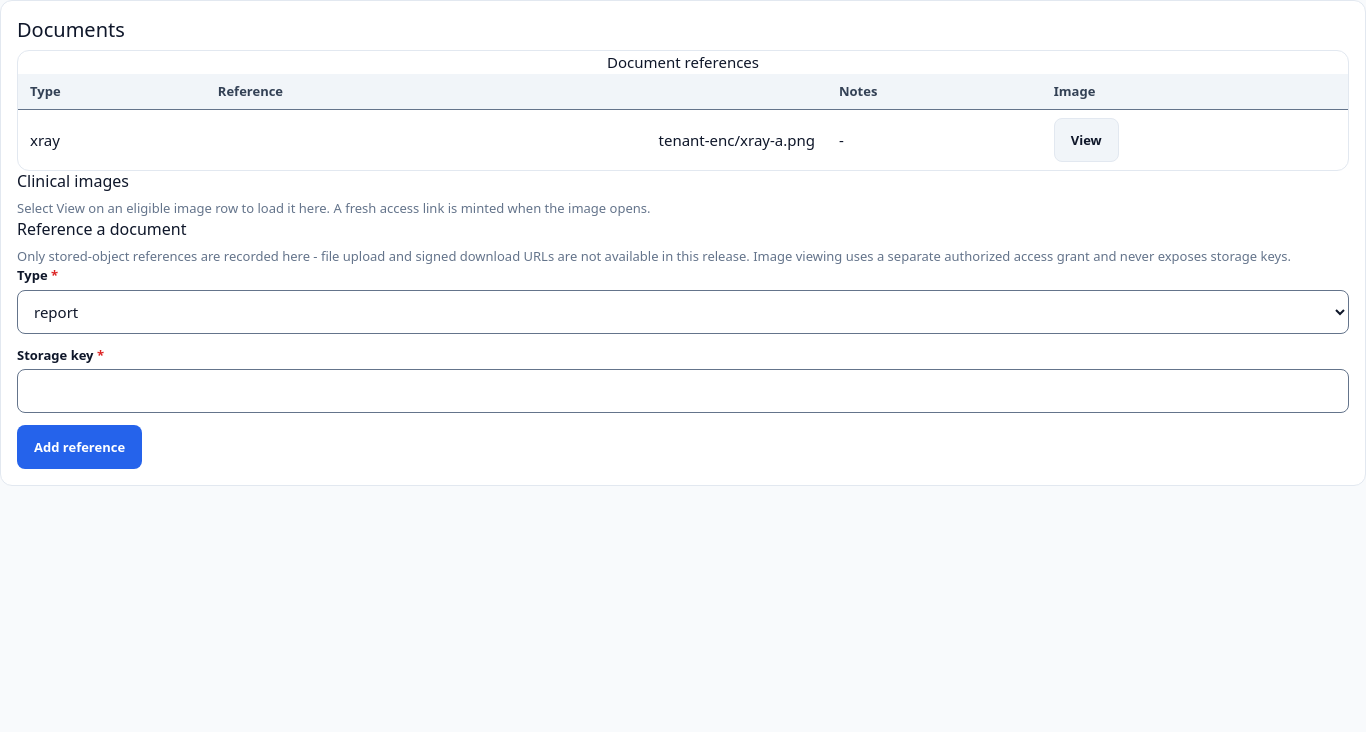
Test case: DocsTab authorized viewing › maps a 403 to the permission summary and shows no image
Click the button with aria-label "view image xray" at (1086, 140), box x1=1054 y1=118 x2=1119 y2=162
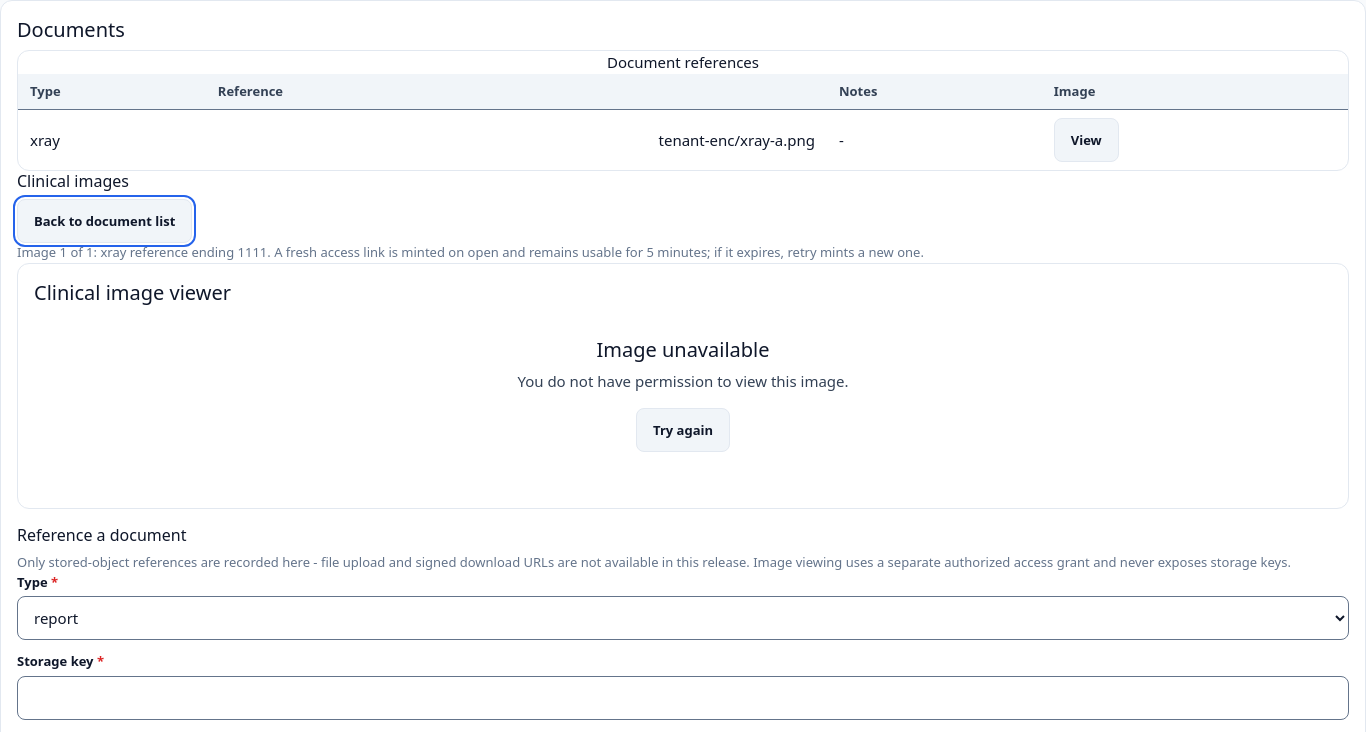
Expected: the text "You do not have permission to view this image." is shown, x1=517 y1=370 x2=849 y2=390
